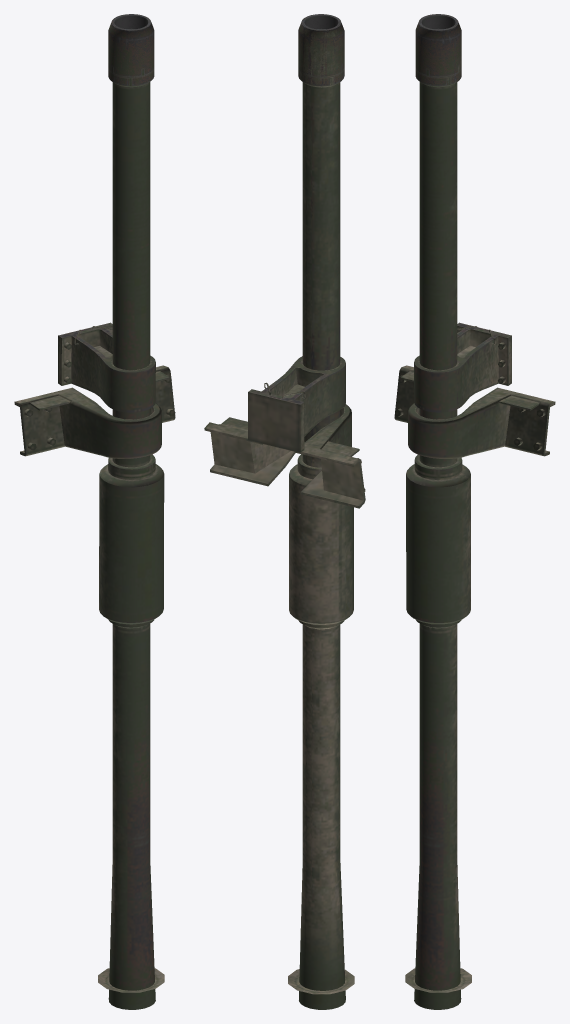
The model's file is Gun_01.glb.
3 views of the same model, side by side, from view 1: azimuth 30°, elevation 25°; view 2: azimuth 150°, elevation 25°; view 3: azimuth 330°, elevation 25° (orthographic).
Parts seen in each view (by area): view 1: set_0_group_0; view 2: set_0_group_0; view 3: set_0_group_0.
Part boxes in pixels (bbox=[...]): set_0_group_0: bbox=[14, 14, 175, 1009]; set_0_group_0: bbox=[204, 14, 365, 1009]; set_0_group_0: bbox=[394, 14, 555, 1009].
Size of the model in its own units: 0.6991 by 4.38 by 0.5166.
1 material, 1 textured.
